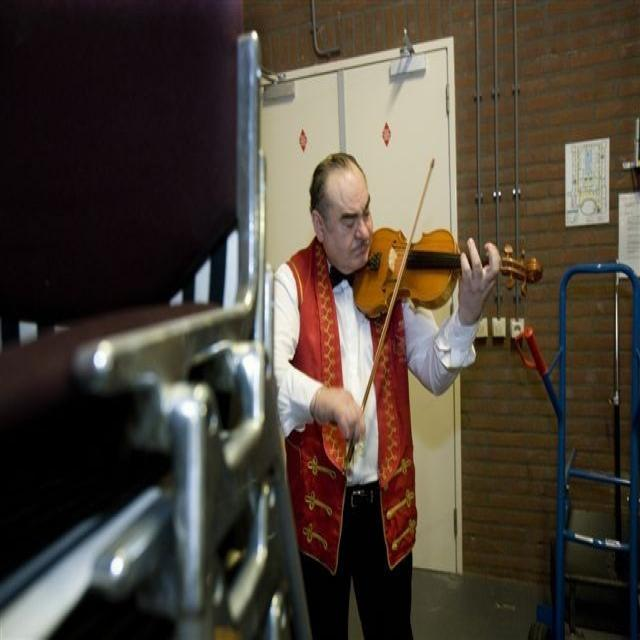violin: (352, 225, 542, 314)
